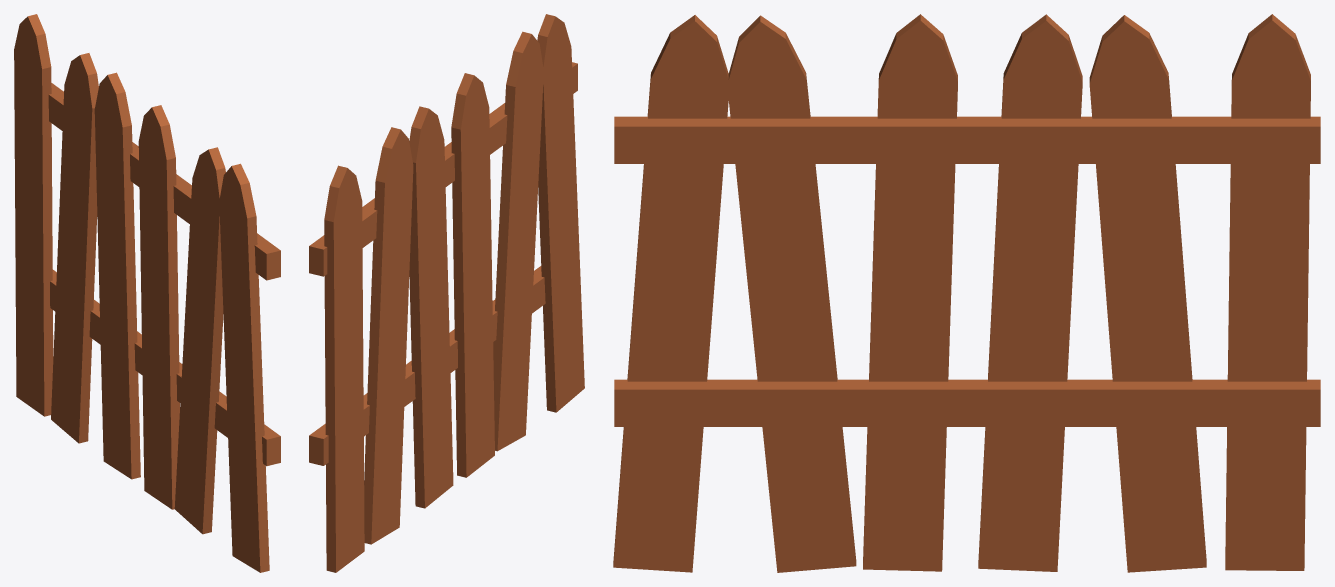
Rendered from CrookedFence.fbx.
3 renders of one model, left to right at view 1: azimuth 30°, elevation 25°; view 2: azimuth 150°, elevation 25°; view 3: azimuth 270°, elevation 25°, orthographic. The views are drawn at different scales.
Parts seen in each view (by area): view 1: Cube.003, Cube.006, Cube.009, Cube.007, Cube.008, Cube.005, Cube.002; view 2: Cube.008, Cube.009, Cube.007, Cube.005, Cube.006, Cube.003, Cube.002; view 3: Cube.002, Cube.005, Cube.008, Cube.003, Cube.006, Cube.007, Cube.009.
Part boxes in pixels (<box>): Cube.003: <box>219,163,269,572</box>; Cube.006: <box>94,72,140,479</box>; Cube.009: <box>14,14,53,416</box>; Cube.007: <box>138,105,179,509</box>; Cube.008: <box>51,53,98,443</box>; Cube.005: <box>174,147,225,534</box>; Cube.002: <box>48,83,280,466</box>; Cube.008: <box>364,127,413,544</box>; Cube.009: <box>324,165,364,572</box>; Cube.007: <box>451,73,494,477</box>; Cube.005: <box>493,31,543,451</box>; Cube.006: <box>409,106,453,508</box>; Cube.003: <box>537,14,584,412</box>; Cube.002: <box>309,62,577,465</box>; Cube.002: <box>614,116,1320,426</box>; Cube.005: <box>728,15,856,572</box>; Cube.008: <box>1089,15,1206,572</box>; Cube.003: <box>613,15,729,572</box>; Cube.006: <box>978,14,1082,571</box>; Cube.007: <box>863,14,957,571</box>; Cube.009: <box>1225,14,1310,570</box>.
Size of the model in its own units: 15.53 by 278 by 323.
